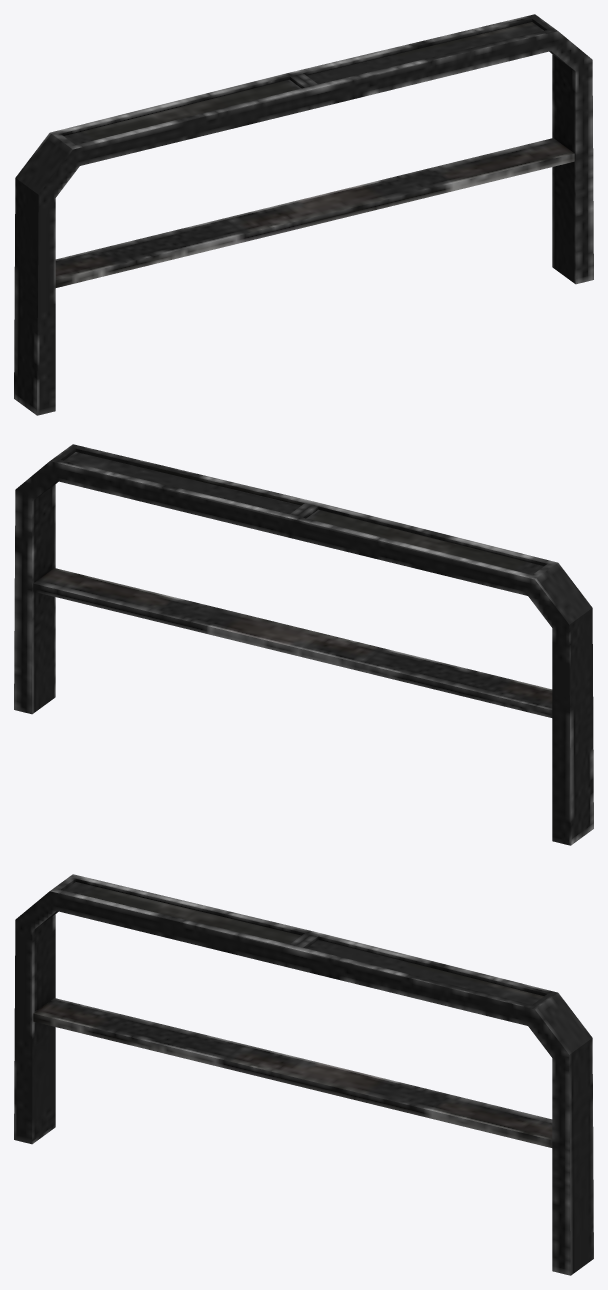
Rendered from SM_fence.glb.
The picture shows the model from 3 angles, top to bottom: view 1: azimuth 30°, elevation 25°; view 2: azimuth 150°, elevation 25°; view 3: azimuth 330°, elevation 25°; orthographic projection.
Parts seen in each view (by area): view 1: SM_fence; view 2: SM_fence; view 3: SM_fence.
Boxes of the visible parts, <box> form: SM_fence: <box>14,14,593,415</box>; SM_fence: <box>14,444,593,845</box>; SM_fence: <box>14,874,593,1275</box>.
Size of the model in its own units: 1.8 by 0.8 by 0.13.
1 material, 1 textured.
